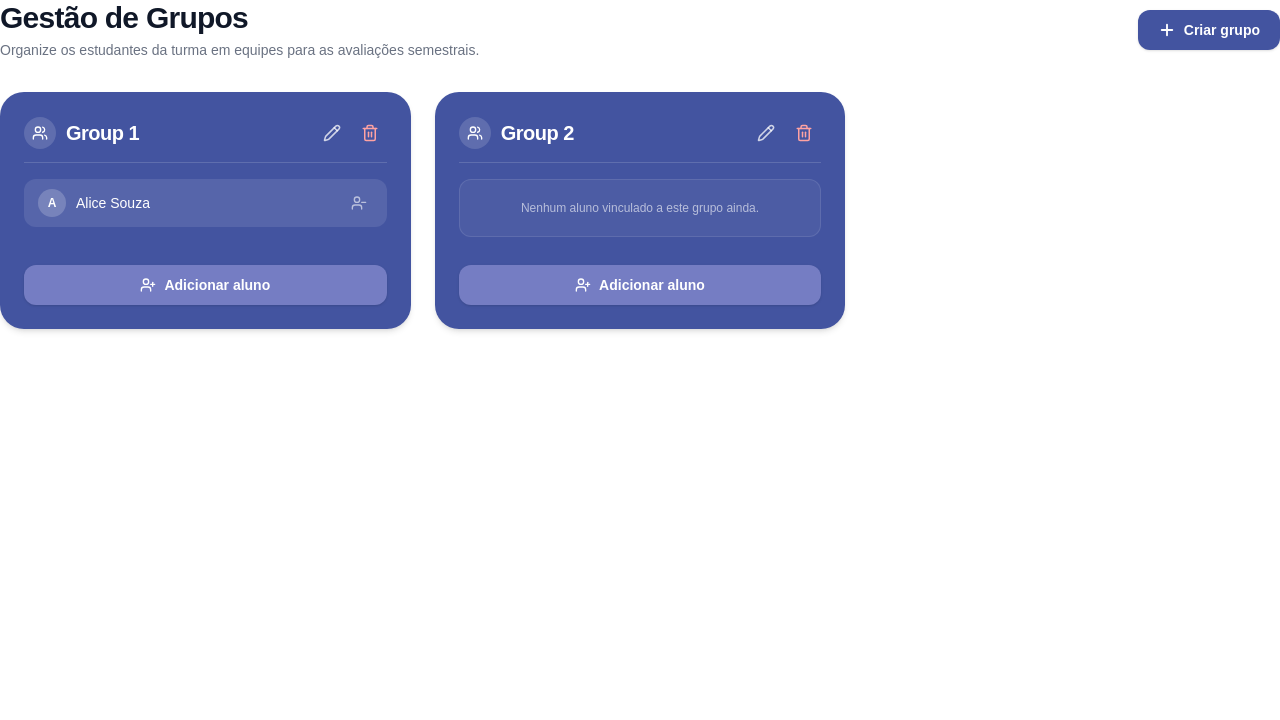
Test: [US06] Tutor groups panel integration › should DELETE the student from the group's members route and offer it again for grouping
Expected: the element "Group 1" is shown, [0,92,411,329]
Click the button named "remover alice souza" at (359, 203), box [345,189,373,217]
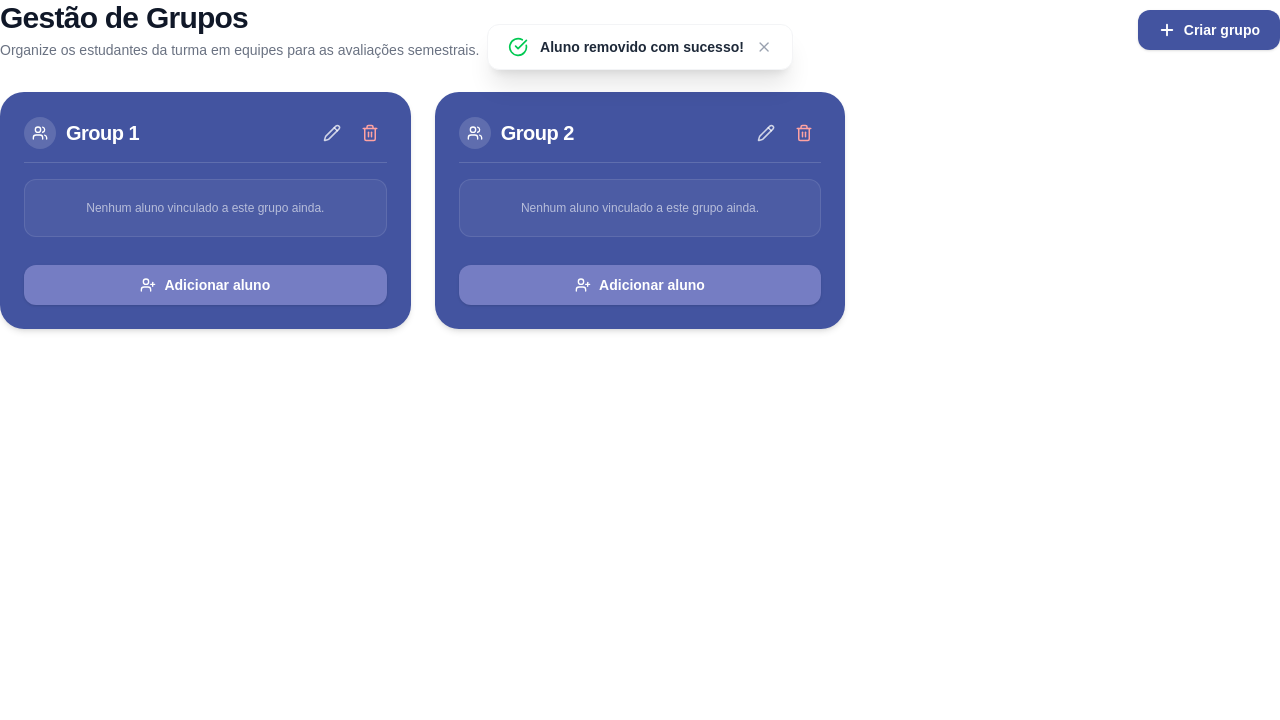
Now the text "Alice Souza" is gone
Click the button "Adicionar aluno" below "Group 2" at (640, 285), box [459,265,821,305]
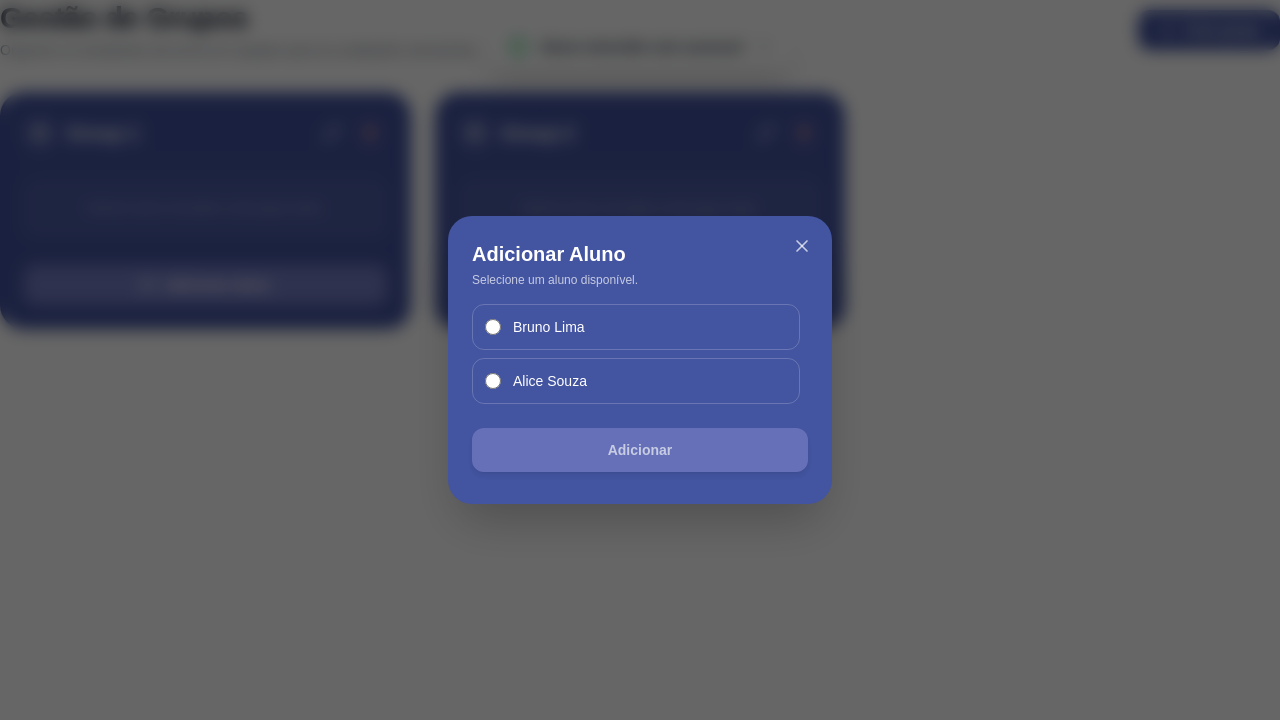
Now the radio button labelled "Alice Souza" is shown, box [485,373,501,389]
